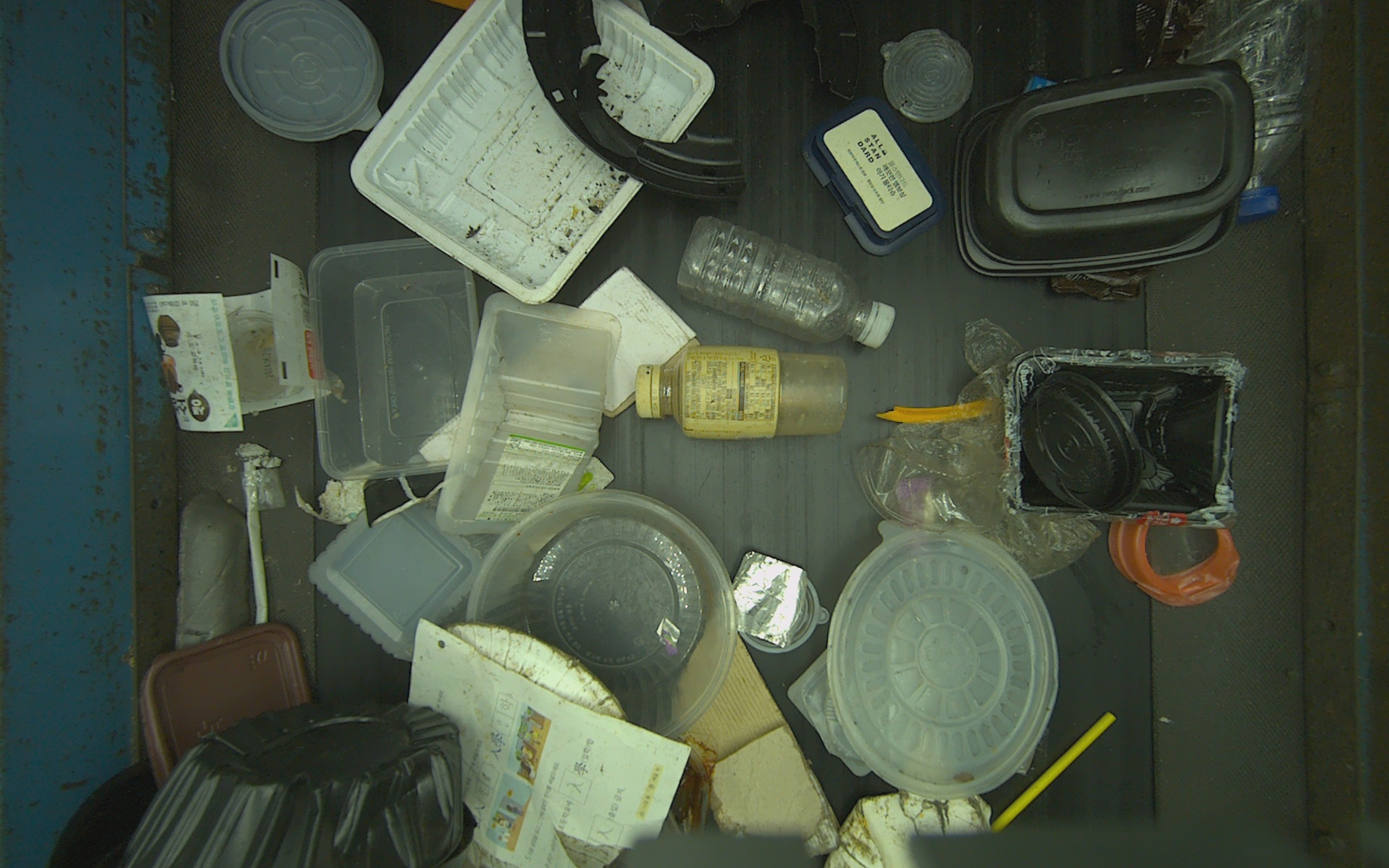PET: (678, 216, 895, 349), (636, 345, 847, 438)
PET-C: (856, 435, 1008, 534)
PP-B: (955, 59, 1254, 276)
